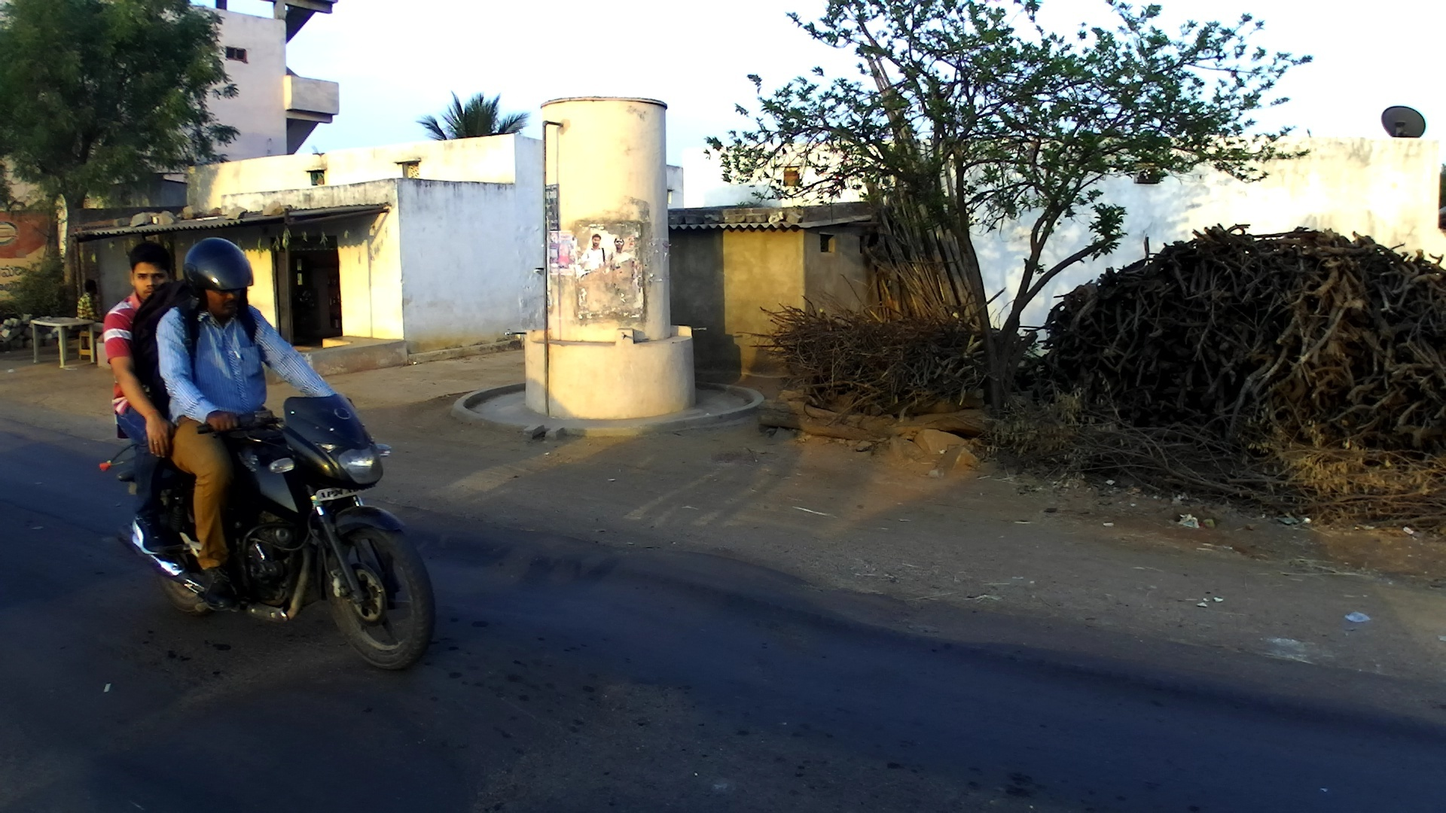motorcycle: (96, 358, 437, 674)
person: (75, 276, 102, 345)
rider: (129, 240, 342, 610), (102, 244, 216, 562)
